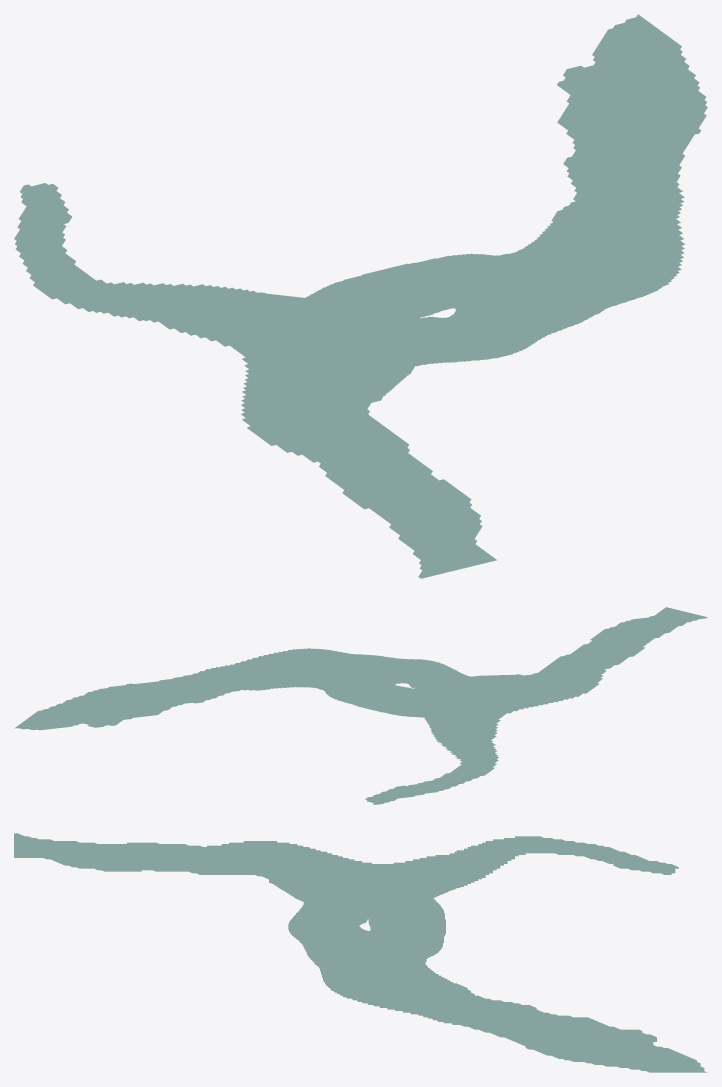
The model's file is river-water.glb.
3 views of the same model, one above another, from view 1: azimuth 30°, elevation 25°; view 2: azimuth 150°, elevation 25°; view 3: azimuth 270°, elevation 25° (orthographic). The views are drawn at different scales.
Visible parts, largest first — view 1: Tembeling and Tahan water surface; view 2: Tembeling and Tahan water surface; view 3: Tembeling and Tahan water surface.
Part boxes in pixels (<box>): Tembeling and Tahan water surface: <box>14,14,707,578</box>; Tembeling and Tahan water surface: <box>14,607,707,804</box>; Tembeling and Tahan water surface: <box>14,833,707,1072</box>.
Bounding box in the file's own units: 431 × 0 × 528.
